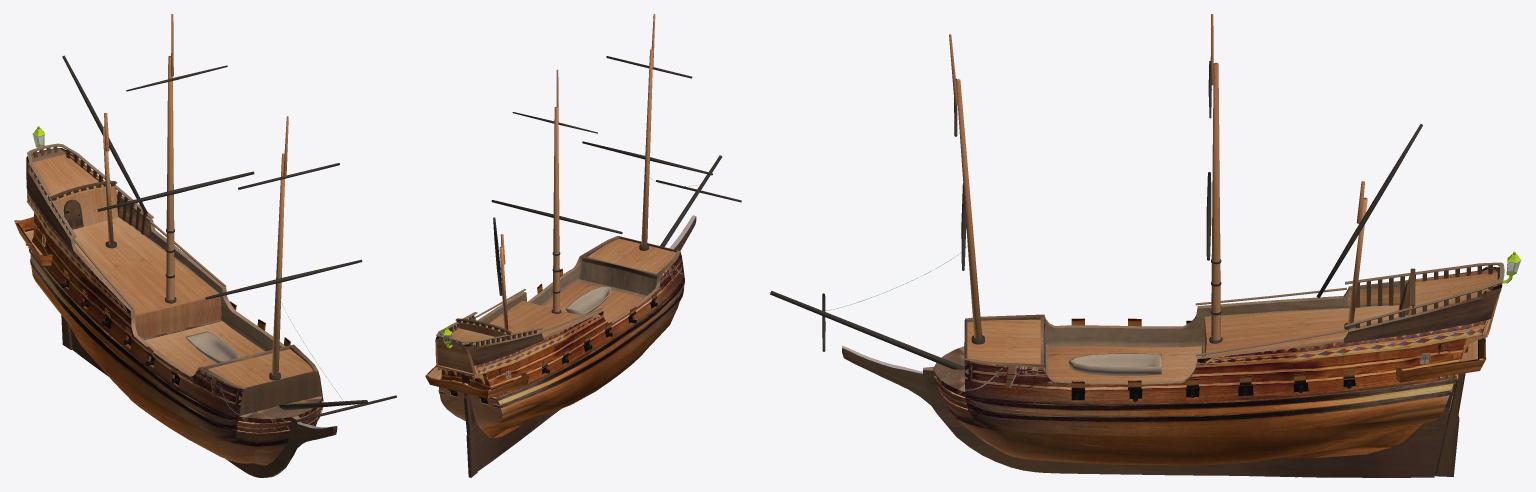
The model's file is fregate17e.glb.
3 renders of one model, left to right at view 1: azimuth 30°, elevation 25°; view 2: azimuth 150°, elevation 25°; view 3: azimuth 270°, elevation 25°, orthographic. The views are drawn at different scales.
Parts seen in each view (by area): view 1: Plane, Cylinder.001, Cylinder, Plane.003, Plane.002, Plane.005, chaloupe, Cube.009, Cylinder.003, Cylinder.004, Cylinder.006, Cylinder.002 (+1 smaller); view 2: Plane, Cylinder.001, Cylinder, Plane.003, Plane.002, chaloupe, rudder, Cylinder.002, Cylinder.004, Cylinder.006, Plane.005; view 3: Plane, Plane.003, Plane.002, Cylinder.001, Cylinder, chaloupe, Plane.005, rudder, Cube.009, Cylinder.002, Cylinder.003.
Part boxes in pixels (x1,y1,x2,y2): Plane: (14, 143, 337, 477); Cylinder.001: (102, 113, 288, 375); Cylinder: (165, 14, 174, 300); Plane.003: (29, 249, 323, 427); Plane.002: (30, 259, 322, 436); Plane.005: (32, 153, 103, 203); chaloupe: (185, 331, 239, 363); Cube.009: (30, 146, 146, 235); Cylinder.003: (62, 55, 147, 214); Cylinder.004: (97, 171, 254, 211); Cylinder.006: (205, 259, 362, 299); Cylinder.002: (279, 400, 367, 410); Plane: (425, 215, 696, 471); Cylinder.001: (499, 14, 655, 332); Cylinder: (552, 69, 560, 312); Plane.003: (488, 275, 684, 400); Plane.002: (438, 287, 684, 408); chaloupe: (565, 286, 611, 315); rudder: (463, 393, 477, 477); Cylinder.002: (660, 155, 721, 246); Cylinder.004: (491, 200, 622, 233); Cylinder.006: (582, 141, 712, 175); Plane.005: (440, 327, 507, 345); Plane: (842, 262, 1504, 477); Plane.003: (933, 374, 1458, 411); Plane.002: (938, 387, 1452, 423); Cylinder.001: (949, 34, 1367, 338); Cylinder: (1210, 14, 1221, 340); chaloupe: (1068, 353, 1161, 375); Plane.005: (1415, 270, 1497, 313); rudder: (1435, 346, 1468, 476); Cube.009: (1355, 265, 1499, 328); Cylinder.002: (770, 291, 964, 369); Cylinder.003: (1316, 124, 1422, 298).
Bounding box in the file's own units: 8.45 × 21.2 × 31.21.
10 materials, 2 textured.
